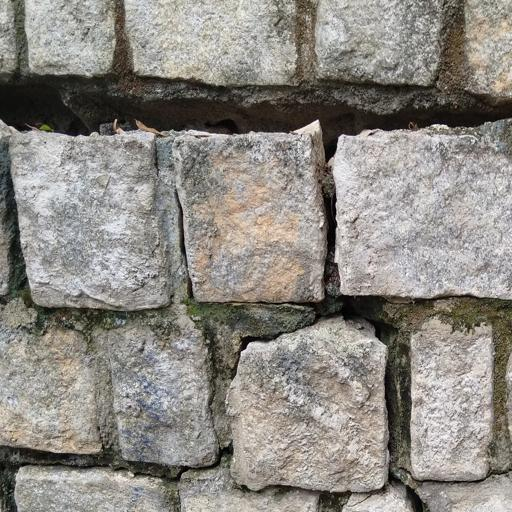major_crack: (158, 255, 438, 512), (0, 25, 512, 159), (291, 121, 361, 298)
